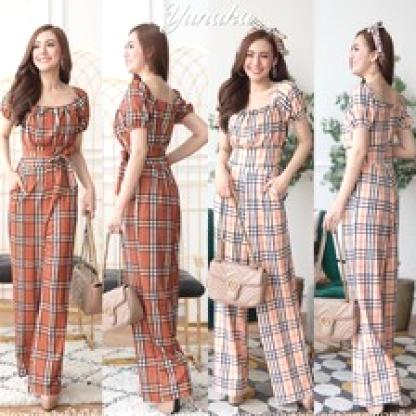dress: (207, 71, 315, 400), (0, 72, 91, 405), (116, 72, 196, 402), (332, 76, 411, 410)
jean: (207, 21, 315, 409), (0, 22, 96, 412), (109, 21, 202, 414), (321, 20, 412, 416)
